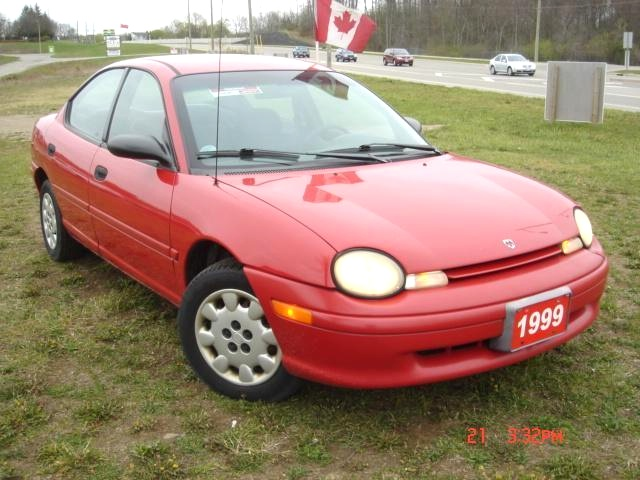car: (12, 37, 640, 426)
